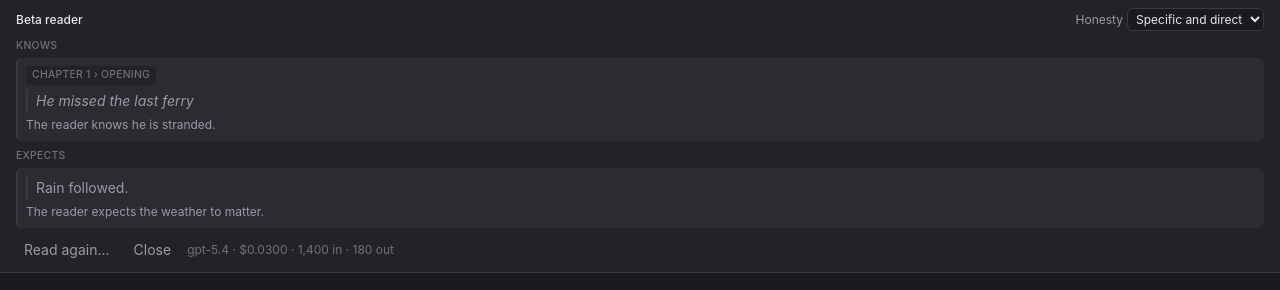
Scenario: BetaReaderPanel (F-14.11) › Read again… asks for a note, settles the shown proposal, and sends it again
The width and height of the screenshot is (1280, 290).
Click the button with test id "beta-reader-regenerate" at (67, 250), box [16,236,118,264]
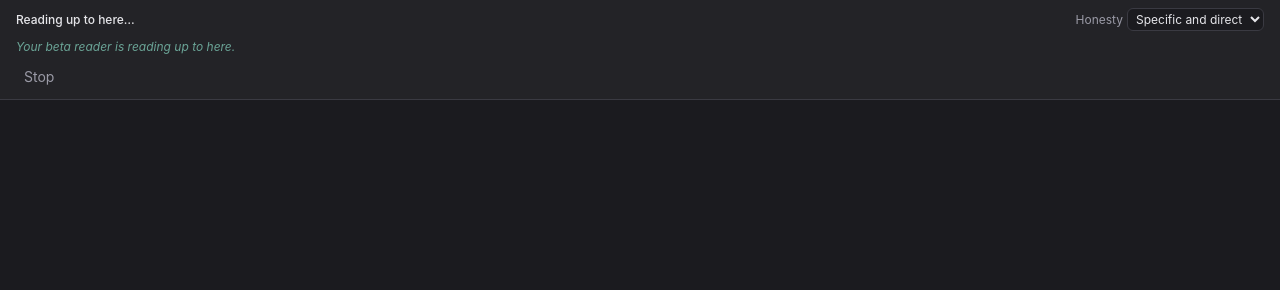
Expected: the message "Your beta reader is reading up to here." is shown, [16,39,1264,55]
